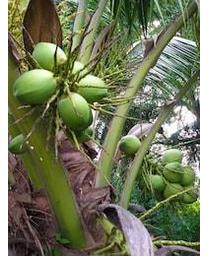coconut: (13, 68, 60, 106), (59, 90, 93, 131), (31, 42, 69, 75), (73, 72, 109, 103), (161, 161, 184, 183), (119, 134, 142, 154), (164, 182, 185, 202), (145, 174, 166, 194), (160, 147, 183, 165)
